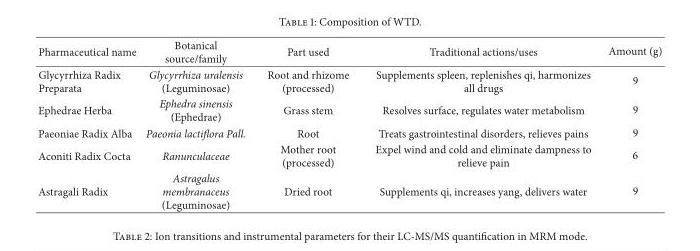table: (37, 37, 661, 211)
table column: (361, 37, 599, 211), (140, 37, 255, 211), (255, 37, 361, 211), (37, 37, 140, 211), (599, 37, 661, 211)
table column header: (37, 37, 661, 65)
table row: (37, 169, 661, 211), (37, 65, 661, 95), (37, 95, 661, 124), (37, 140, 661, 169), (37, 37, 661, 65), (37, 124, 661, 140)
